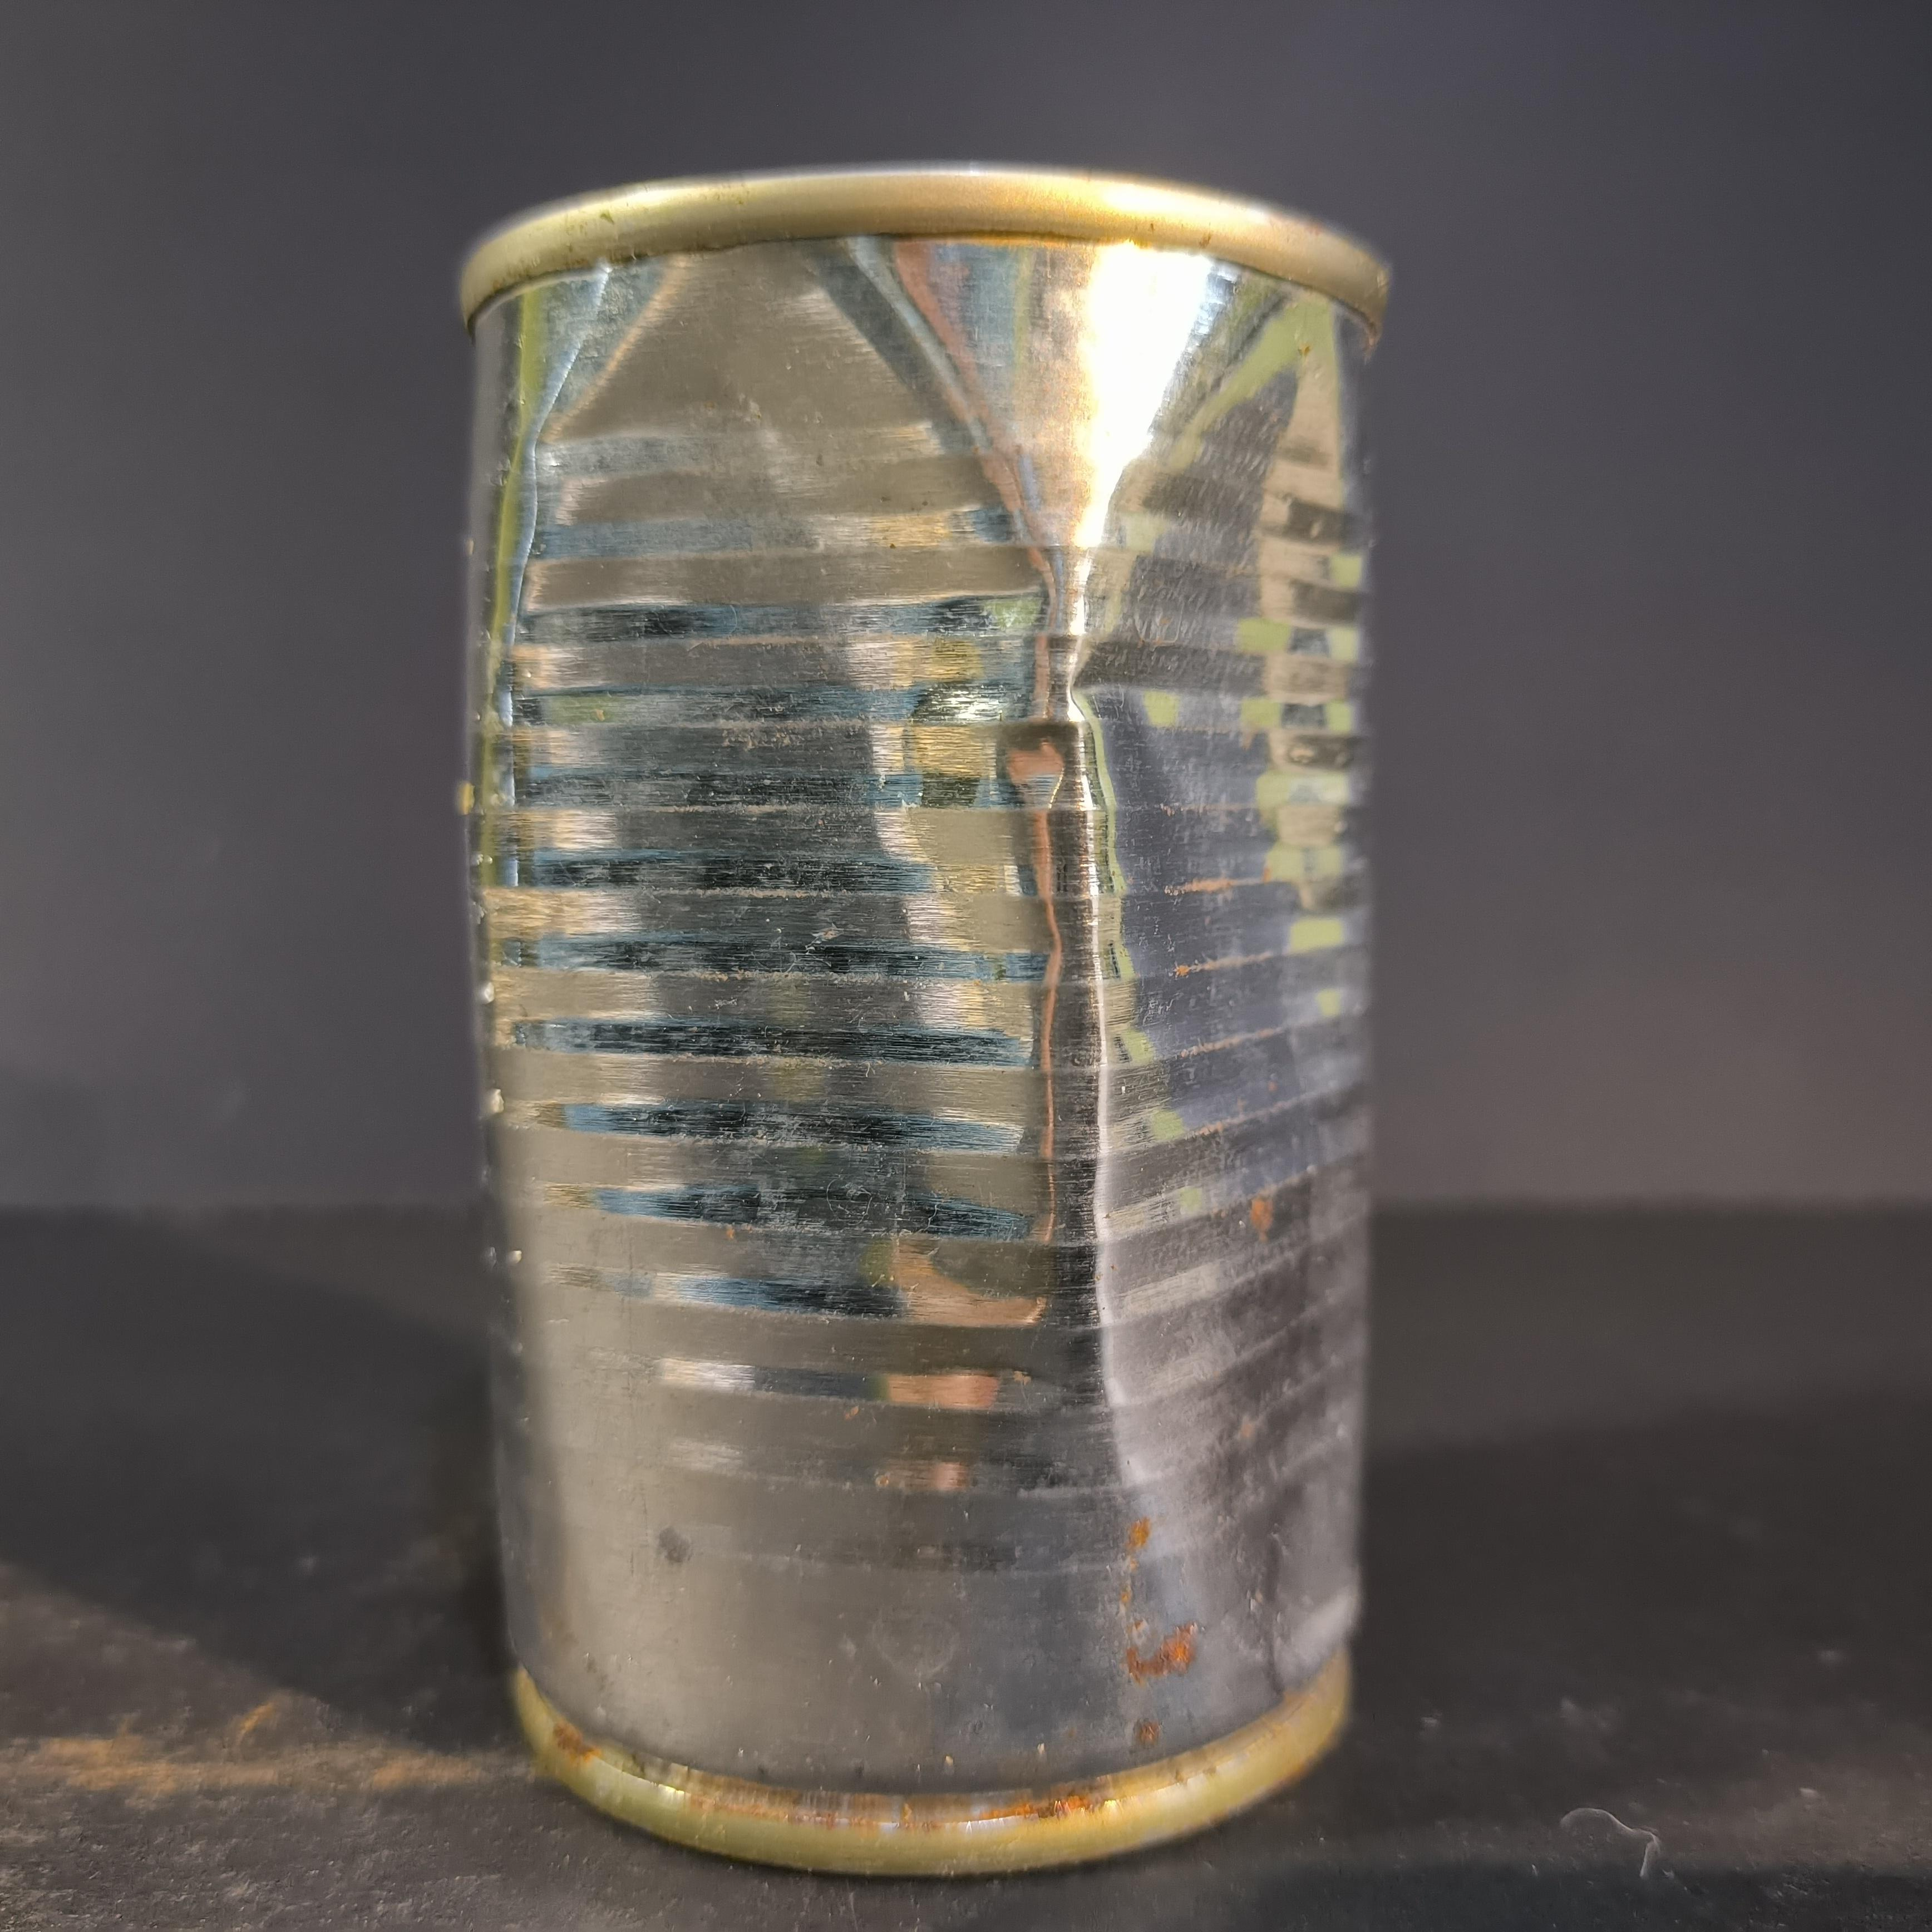Dented: (432, 136, 1454, 1928)
